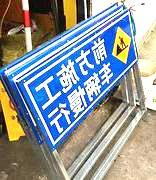sign: (33, 22, 136, 143)
